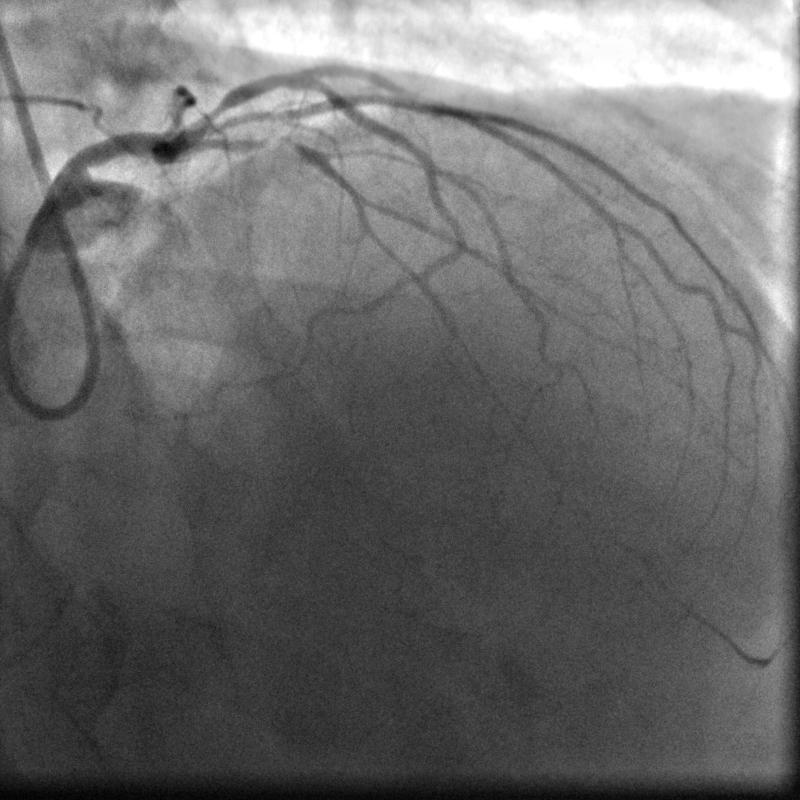Stenosis: (191, 99, 230, 133)
